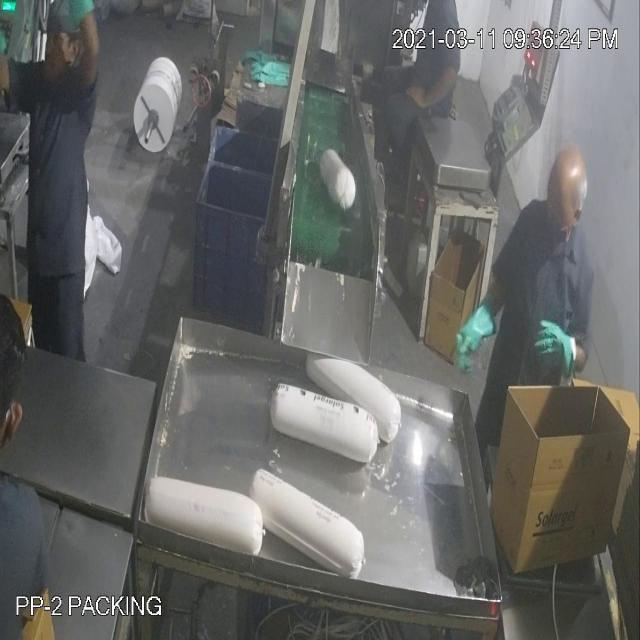Gloves: (54, 58, 556, 354)
